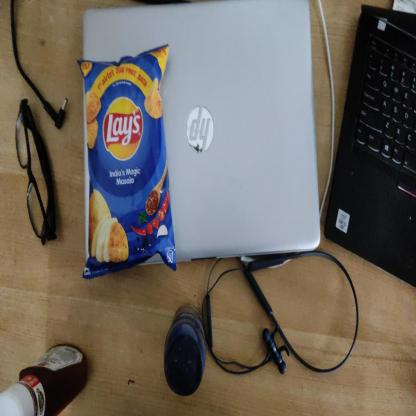indian_magic_masala: (79, 47, 176, 276)
